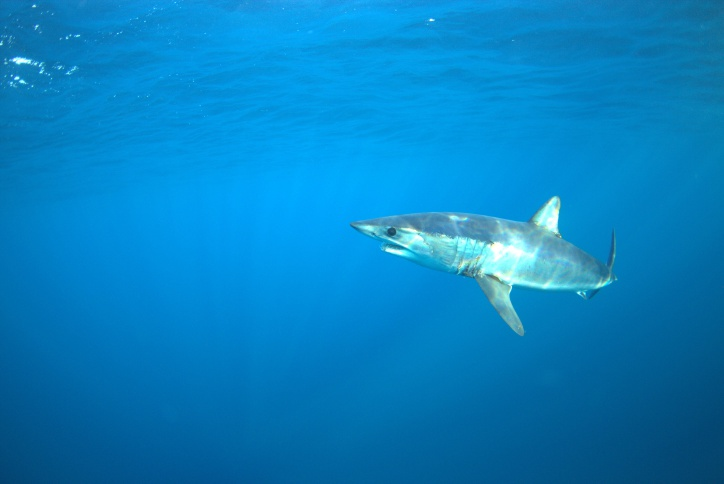Mako: (332, 167, 625, 353)
